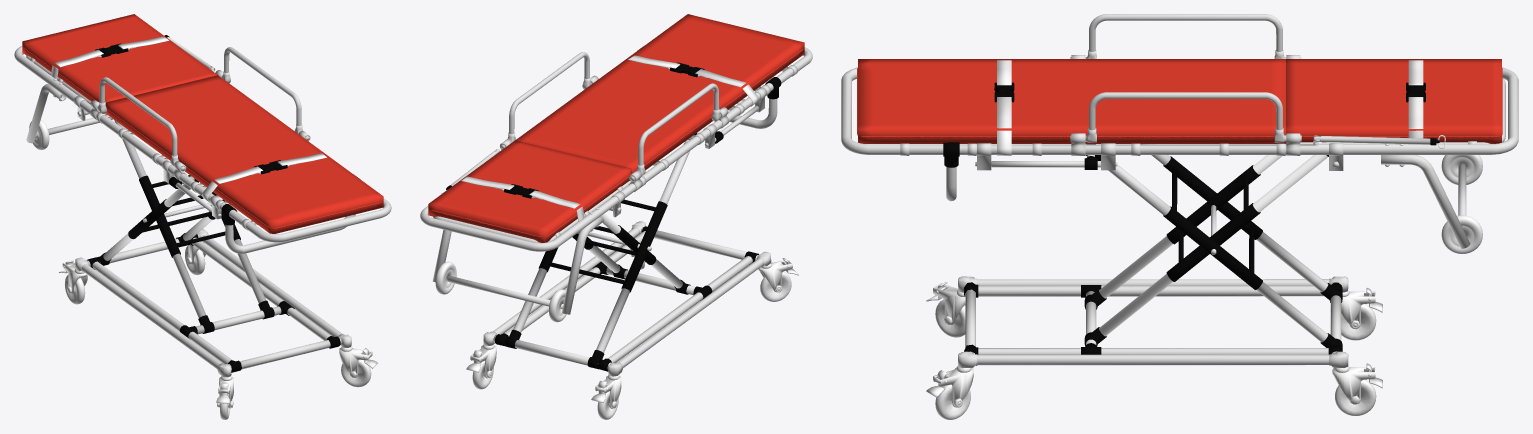
Rendered from stretcher-trauma.glb.
3 renders of one model, left to right at view 1: azimuth 30°, elevation 25°; view 2: azimuth 150°, elevation 25°; view 3: azimuth 270°, elevation 25°, orthographic. The views are drawn at different scales.
Visible parts, largest first — view 1: Cube.001, Cube.003, Circle, RAIL BOT, LEG1, WHEEL, LEG2, Circle.006, Circle.001, Circle.015, SLIDER2, Circle.005 (+1 smaller); view 2: Cube.001, Cube.003, Circle, RAIL BOT, LEG2, WHEEL, LEG1, Circle.006, Circle.001, Circle.015, Cylinder.001, SLIDER2 (+1 smaller); view 3: Cube.001, Cube.003, Circle, RAIL BOT, LEG2, WHEEL, LEG1, Circle.015, Circle.006, Cylinder.001, Circle.001, Circle.005 (+3 smaller).
Part boxes in pixels (x1,y1,x2,y2): Cube.001: (106, 75, 383, 233); Cube.003: (22, 14, 217, 113); Circle: (14, 46, 391, 253); RAIL BOT: (75, 229, 351, 377); LEG1: (114, 120, 274, 333); WHEEL: (58, 234, 377, 419); LEG2: (87, 178, 225, 266); Circle.006: (26, 36, 168, 114); Circle.001: (97, 77, 185, 171); Circle.015: (221, 47, 309, 140); SLIDER2: (179, 301, 294, 338); Circle.005: (161, 160, 221, 219); Cube.001: (515, 14, 804, 173); Cube.003: (428, 140, 631, 242); Circle: (420, 47, 812, 314); RAIL BOT: (483, 221, 771, 376); LEG2: (493, 133, 696, 369); WHEEL: (466, 225, 798, 419); LEG1: (572, 213, 690, 294); Circle.006: (433, 176, 630, 242); Circle.001: (630, 83, 721, 181); Circle.015: (500, 52, 591, 149); Cylinder.001: (435, 261, 566, 322); SLIDER2: (592, 261, 712, 299); Cube.001: (858, 59, 1285, 143); Cube.003: (1286, 59, 1501, 143); Circle: (841, 55, 1518, 248); RAIL BOT: (958, 276, 1348, 368); LEG2: (1086, 144, 1342, 353); WHEEL: (926, 282, 1382, 419); LEG1: (1084, 155, 1328, 346); Circle.015: (1070, 92, 1301, 142); Circle.006: (1300, 60, 1505, 144); Cylinder.001: (1441, 155, 1482, 253); Circle.001: (1070, 14, 1301, 58); Circle.005: (975, 143, 1117, 170).
Size of the model in its own units: 14.19 by 21.01 by 39.76.
